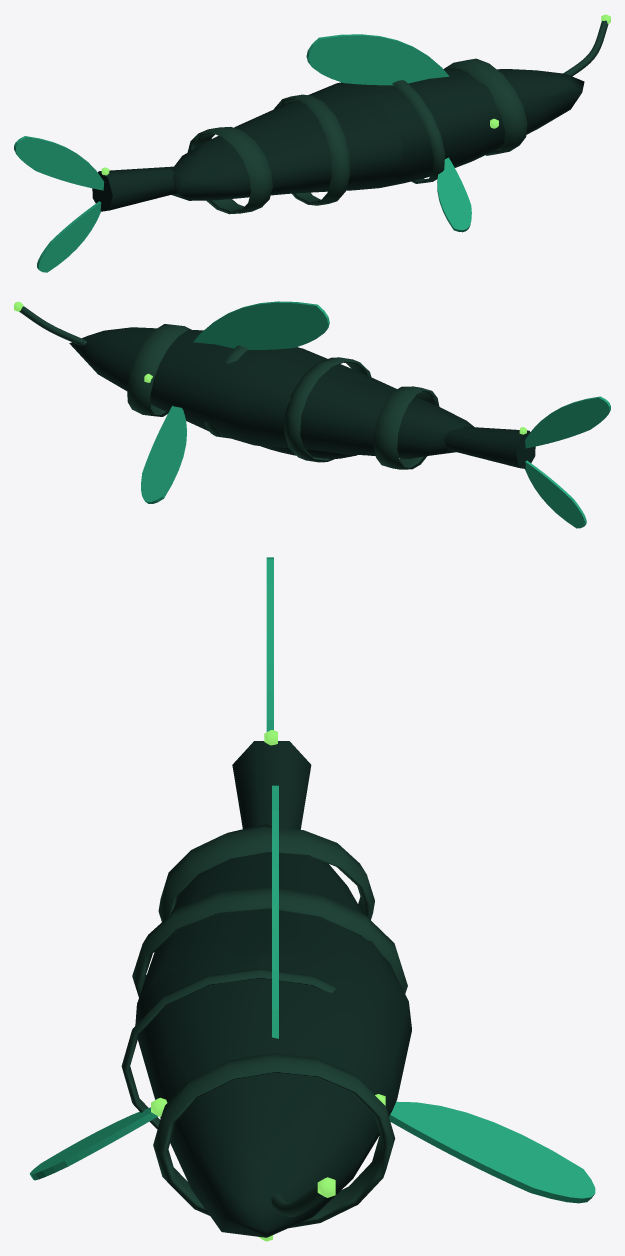
File: light-scout-pelagia.glb
3 views of the same model, one above another, from view 1: azimuth 30°, elevation 25°; view 2: azimuth 150°, elevation 25°; view 3: azimuth 270°, elevation 25° (orthographic). The views are drawn at different scales.
Parts seen in each view (by area): view 1: hull, dorsal_blade, growth_ring_1, tail_peduncle, tail_fluke_upper, growth_ring_4, growth_ring_2, tail_fluke_lower, pectoral_starboard, growth_ring_3, sensor_feeler; view 2: hull, dorsal_blade, pectoral_port, tail_peduncle, growth_ring_1, growth_ring_4, tail_fluke_upper, growth_ring_2, tail_fluke_lower, sensor_feeler, ballast_lobe, growth_ring_3; view 3: hull, pectoral_port, growth_ring_4, growth_ring_2, growth_ring_1, tail_peduncle, growth_ring_3, pectoral_starboard, dorsal_blade, tail_fluke_upper.
Part boxes in pixels (box(x1,y1,x2,y2)): hull: box(171, 69, 584, 200); dorsal_blade: box(306, 34, 449, 85); growth_ring_1: box(187, 126, 272, 214); tail_peduncle: box(92, 166, 177, 211); tail_fluke_upper: box(14, 136, 104, 190); growth_ring_4: box(443, 58, 527, 155); growth_ring_2: box(274, 94, 349, 205); tail_fluke_lower: box(37, 201, 101, 272); pectoral_starboard: box(437, 157, 471, 232); growth_ring_3: box(392, 80, 445, 183); sensor_feeler: box(563, 20, 608, 76); hull: box(69, 327, 474, 458); dorsal_blade: box(193, 301, 329, 349); pectoral_port: box(141, 406, 186, 503); tail_peduncle: box(444, 426, 535, 468); growth_ring_1: box(374, 386, 439, 469); growth_ring_4: box(127, 324, 191, 416); tail_fluke_upper: box(525, 396, 610, 448); growth_ring_2: box(284, 357, 371, 462); tail_fluke_lower: box(525, 460, 586, 528); sensor_feeler: box(19, 306, 86, 345); ballast_lobe: box(261, 446, 356, 458); growth_ring_3: box(204, 345, 248, 438); hull: box(135, 823, 411, 1237); pectoral_port: box(389, 1101, 595, 1203); growth_ring_4: box(153, 1053, 395, 1227); growth_ring_2: box(132, 887, 407, 997); growth_ring_1: box(158, 827, 374, 921); tail_peduncle: box(232, 741, 311, 829); growth_ring_3: box(121, 968, 335, 1129); pectoral_starboard: box(30, 1107, 158, 1180); dorsal_blade: box(272, 785, 278, 1038); tail_fluke_upper: box(266, 557, 273, 731).
Bounding box in the file's own units: 59.17 × 15.83 × 24.93.
